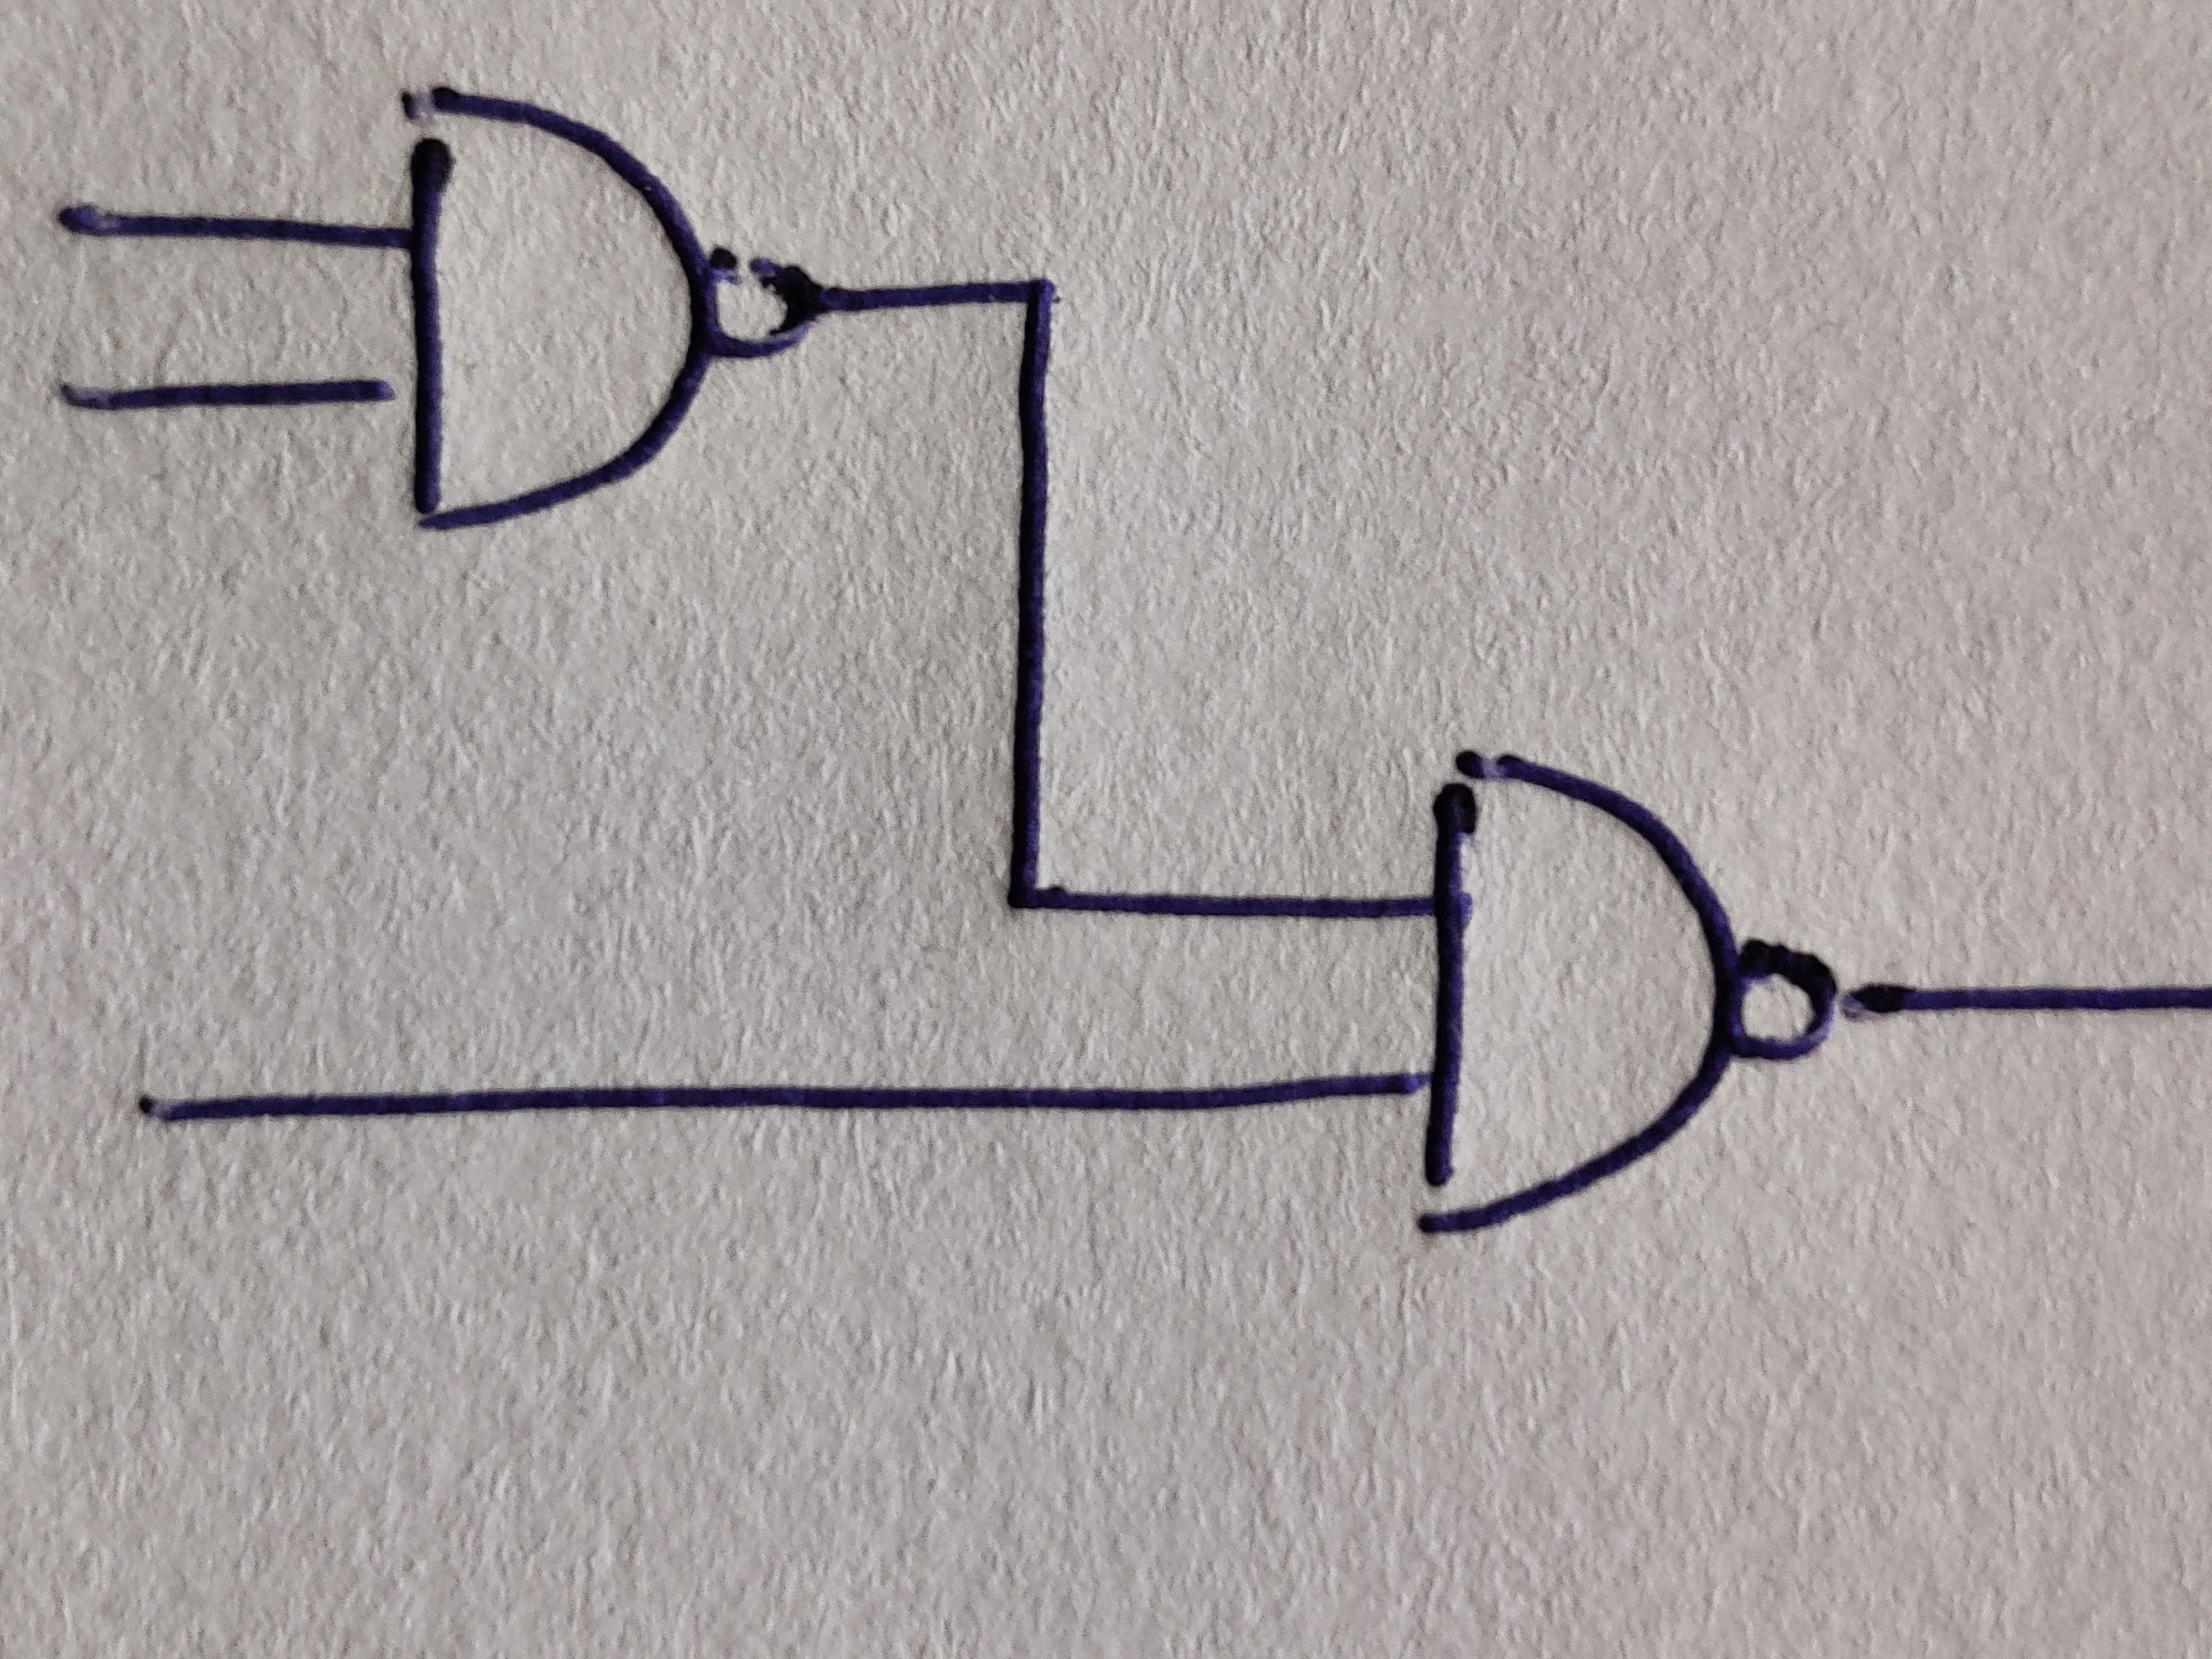and: (1418, 749, 1738, 1237), (411, 84, 709, 535)
not: (705, 246, 817, 361), (1735, 943, 1836, 1061)
